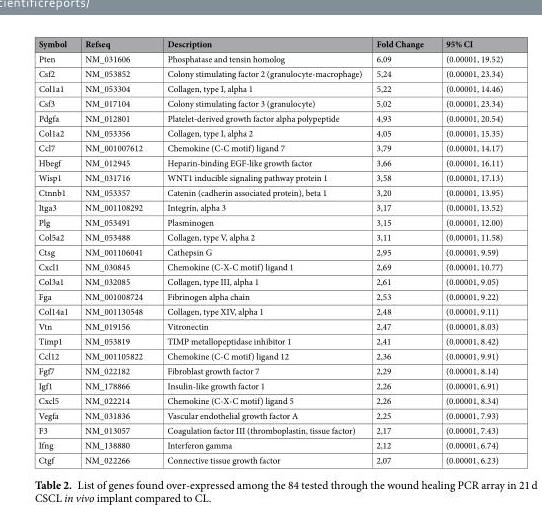table: (37, 37, 502, 465)
table column: (154, 37, 368, 465), (75, 37, 154, 465), (433, 37, 502, 465), (368, 37, 433, 465), (37, 37, 75, 465)
table column header: (37, 37, 502, 50)
table row: (37, 50, 502, 65), (37, 65, 502, 80), (37, 80, 502, 95), (37, 95, 502, 110), (37, 110, 502, 125), (37, 125, 502, 140), (37, 154, 502, 169), (37, 169, 502, 184), (37, 184, 502, 199), (37, 199, 502, 214), (37, 214, 502, 229), (37, 229, 502, 244), (37, 244, 502, 259), (37, 273, 502, 288), (37, 288, 502, 303), (37, 303, 502, 318), (37, 318, 502, 333), (37, 333, 502, 348), (37, 348, 502, 363), (37, 377, 502, 392), (37, 392, 502, 407), (37, 407, 502, 422), (37, 422, 502, 437), (37, 437, 502, 452), (37, 140, 502, 154), (37, 259, 502, 273), (37, 363, 502, 377), (37, 37, 502, 50), (37, 452, 502, 465)
